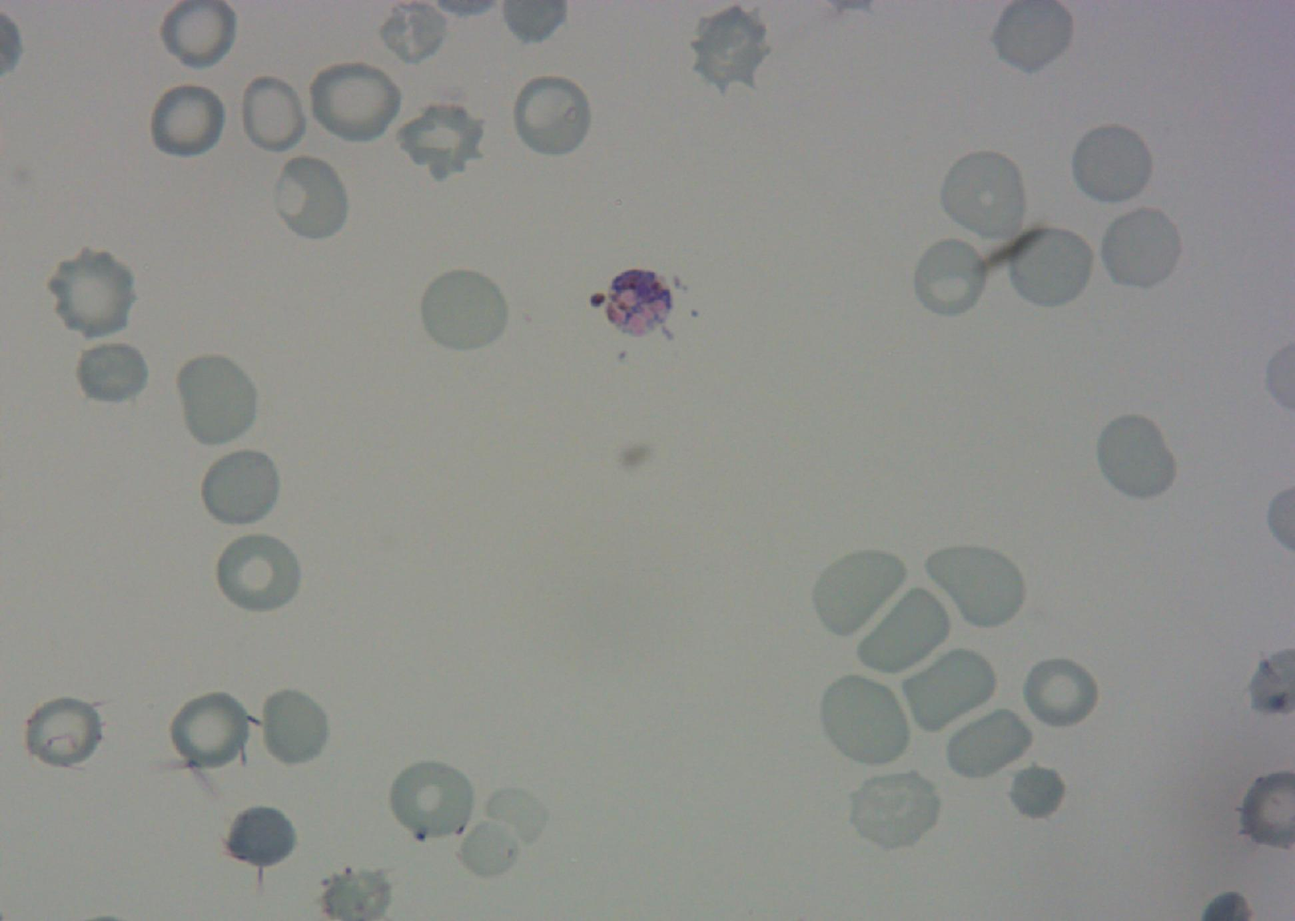Infected: (597, 270, 678, 338)
Uninfected: (809, 545, 912, 642), (816, 672, 914, 769), (925, 539, 1028, 629), (414, 264, 512, 355), (47, 246, 139, 342), (305, 58, 404, 147), (901, 645, 998, 733), (207, 527, 304, 614), (1094, 202, 1185, 292), (266, 151, 352, 244), (386, 756, 478, 842), (856, 587, 951, 670), (508, 71, 596, 159), (1092, 412, 1178, 501), (177, 354, 259, 444), (685, 5, 770, 91), (905, 235, 989, 322), (197, 445, 284, 529), (849, 773, 942, 851), (167, 691, 254, 772), (946, 149, 1026, 236), (146, 79, 228, 162), (1070, 122, 1149, 208), (1019, 653, 1102, 733), (1013, 226, 1094, 305), (256, 685, 333, 768), (946, 709, 1036, 780), (401, 102, 485, 178), (69, 338, 151, 409), (220, 802, 300, 872), (238, 73, 308, 153), (29, 696, 103, 770), (456, 818, 524, 878), (1001, 759, 1065, 818)
